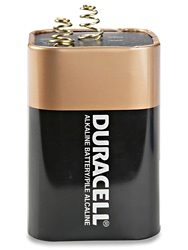6V: (21, 5, 166, 245)
